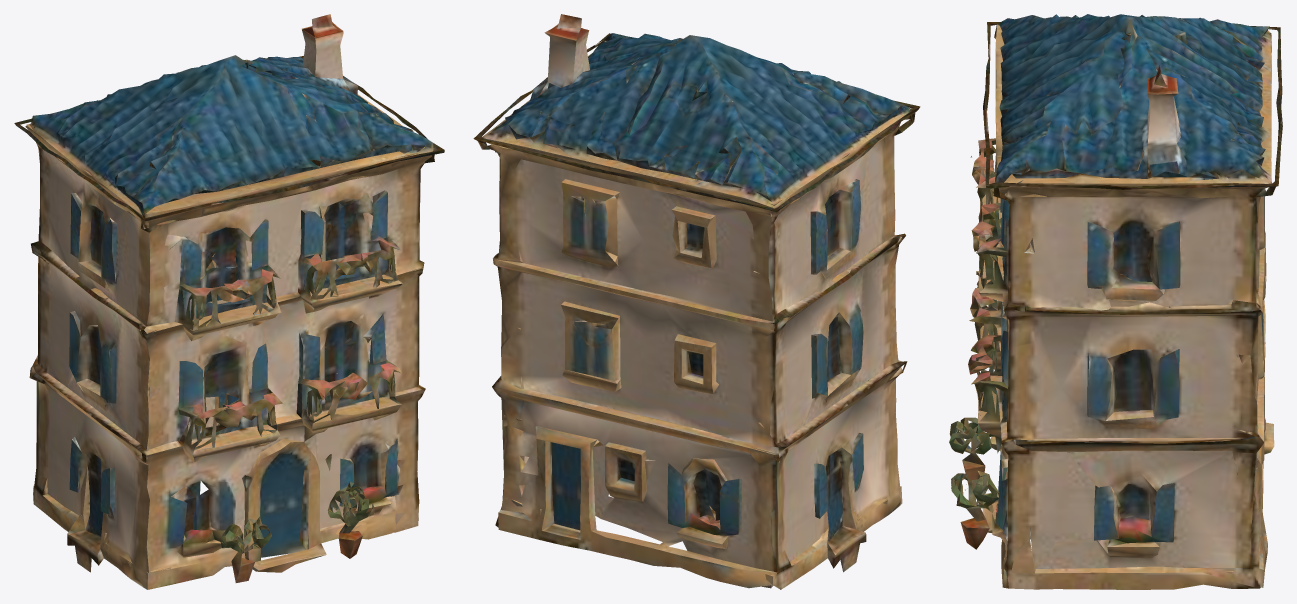
3 renders of one model, left to right at view 1: azimuth 30°, elevation 25°; view 2: azimuth 150°, elevation 25°; view 3: azimuth 270°, elevation 25°, orthographic. The views are drawn at different scales.
Parts seen in each view (by area): view 1: harbor__villa_3__neural_lod; view 2: harbor__villa_3__neural_lod; view 3: harbor__villa_3__neural_lod.
Part boxes in pixels (bbox=[...]): harbor__villa_3__neural_lod: bbox=[14, 14, 444, 589]; harbor__villa_3__neural_lod: bbox=[473, 14, 920, 589]; harbor__villa_3__neural_lod: bbox=[949, 14, 1282, 589].
Size of the model in its own units: 0.6599 by 0.9923 by 0.5732.
Materials: 1 (1 with a texture image).
